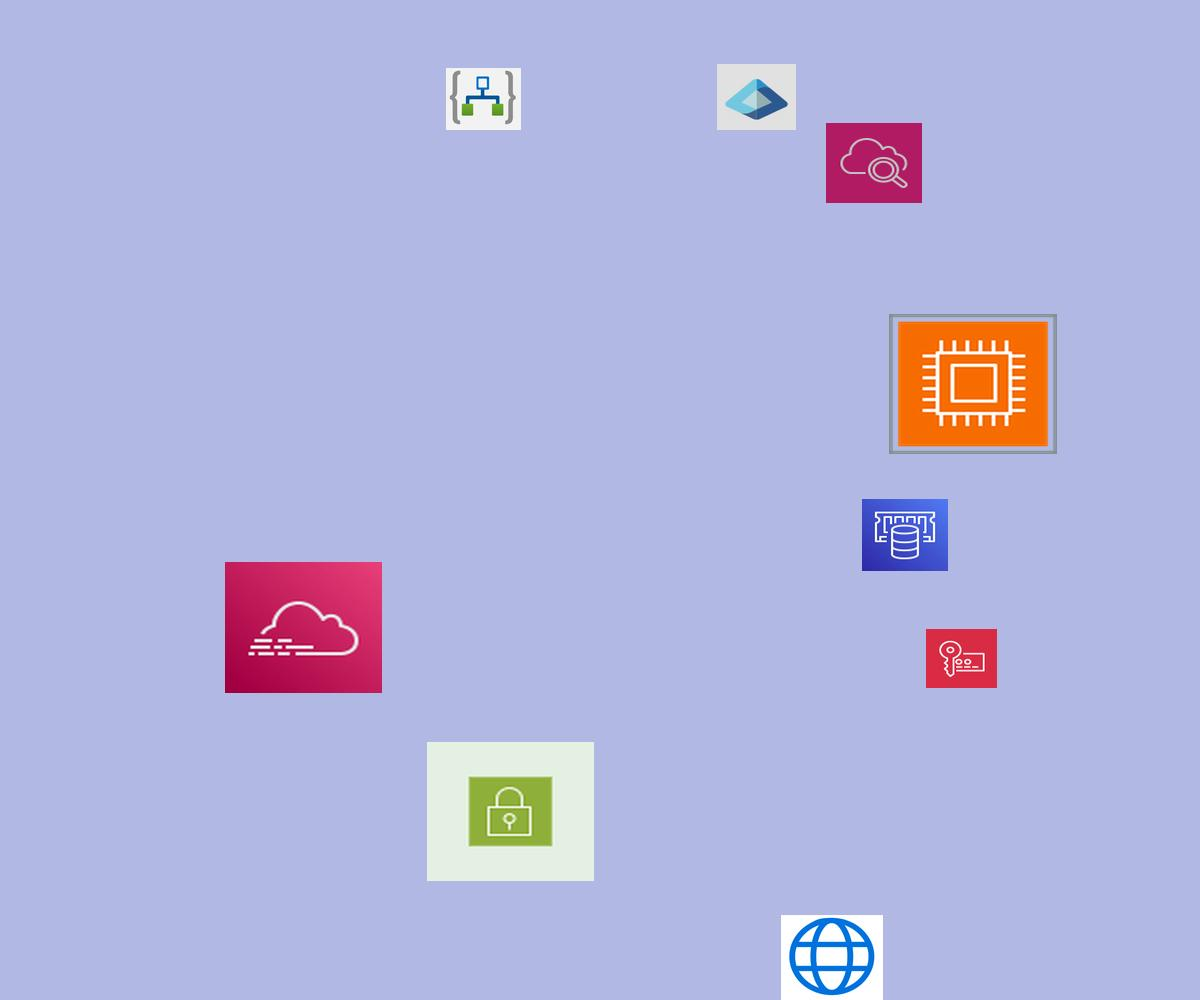AWS-Category_Compute: (889, 314, 1057, 454)
AWS-CloudTrail: (225, 562, 382, 693)
AWS-CloudWatch: (826, 123, 922, 203)
AWS-ElastiCache: (862, 499, 948, 571)
AWS-Key-Management-Service: (926, 629, 997, 688)
AWS-Public-subnet: (427, 742, 594, 881)
Azure_http: (781, 915, 883, 1000)
Azure_integration-204-Logic-Apps: (446, 68, 521, 130)
Azure_microsoft_entra: (717, 64, 796, 130)
